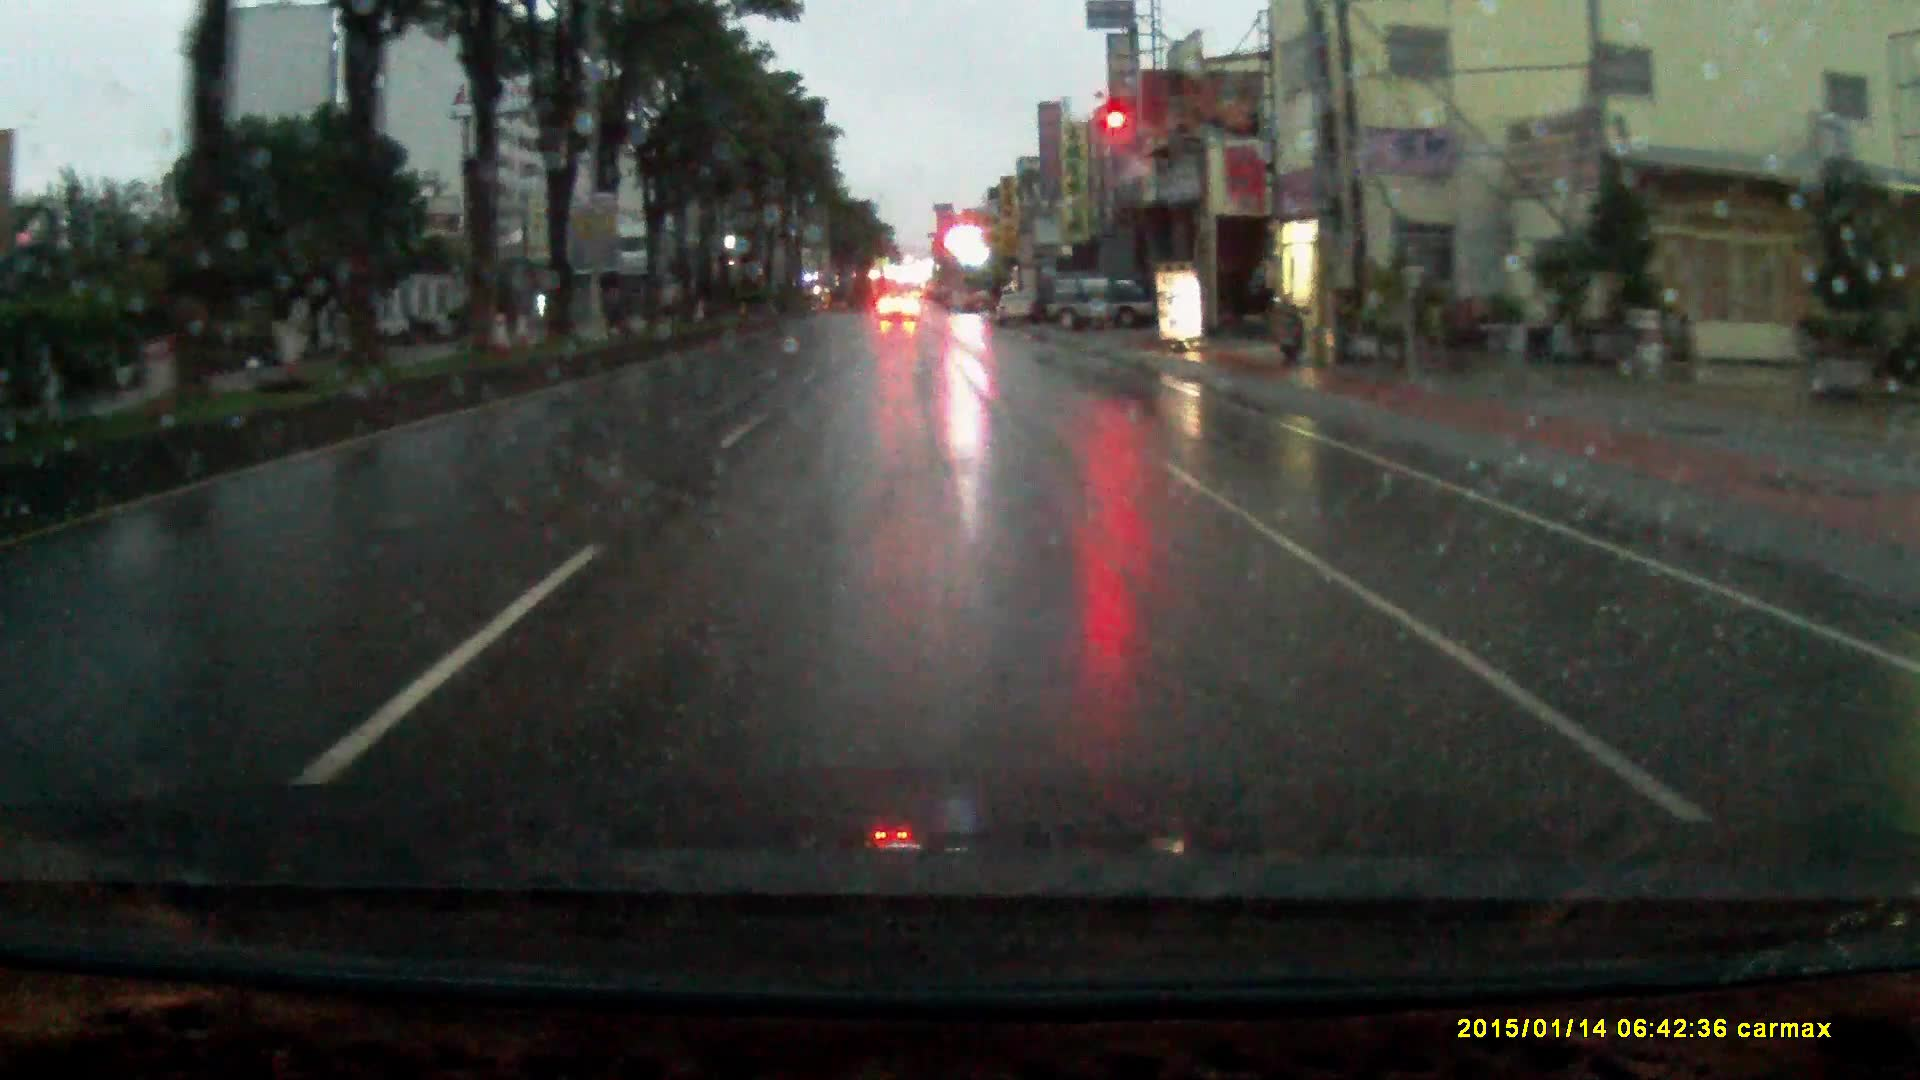vehicle: (1046, 268, 1156, 328), (996, 290, 1036, 326), (877, 290, 920, 323)
